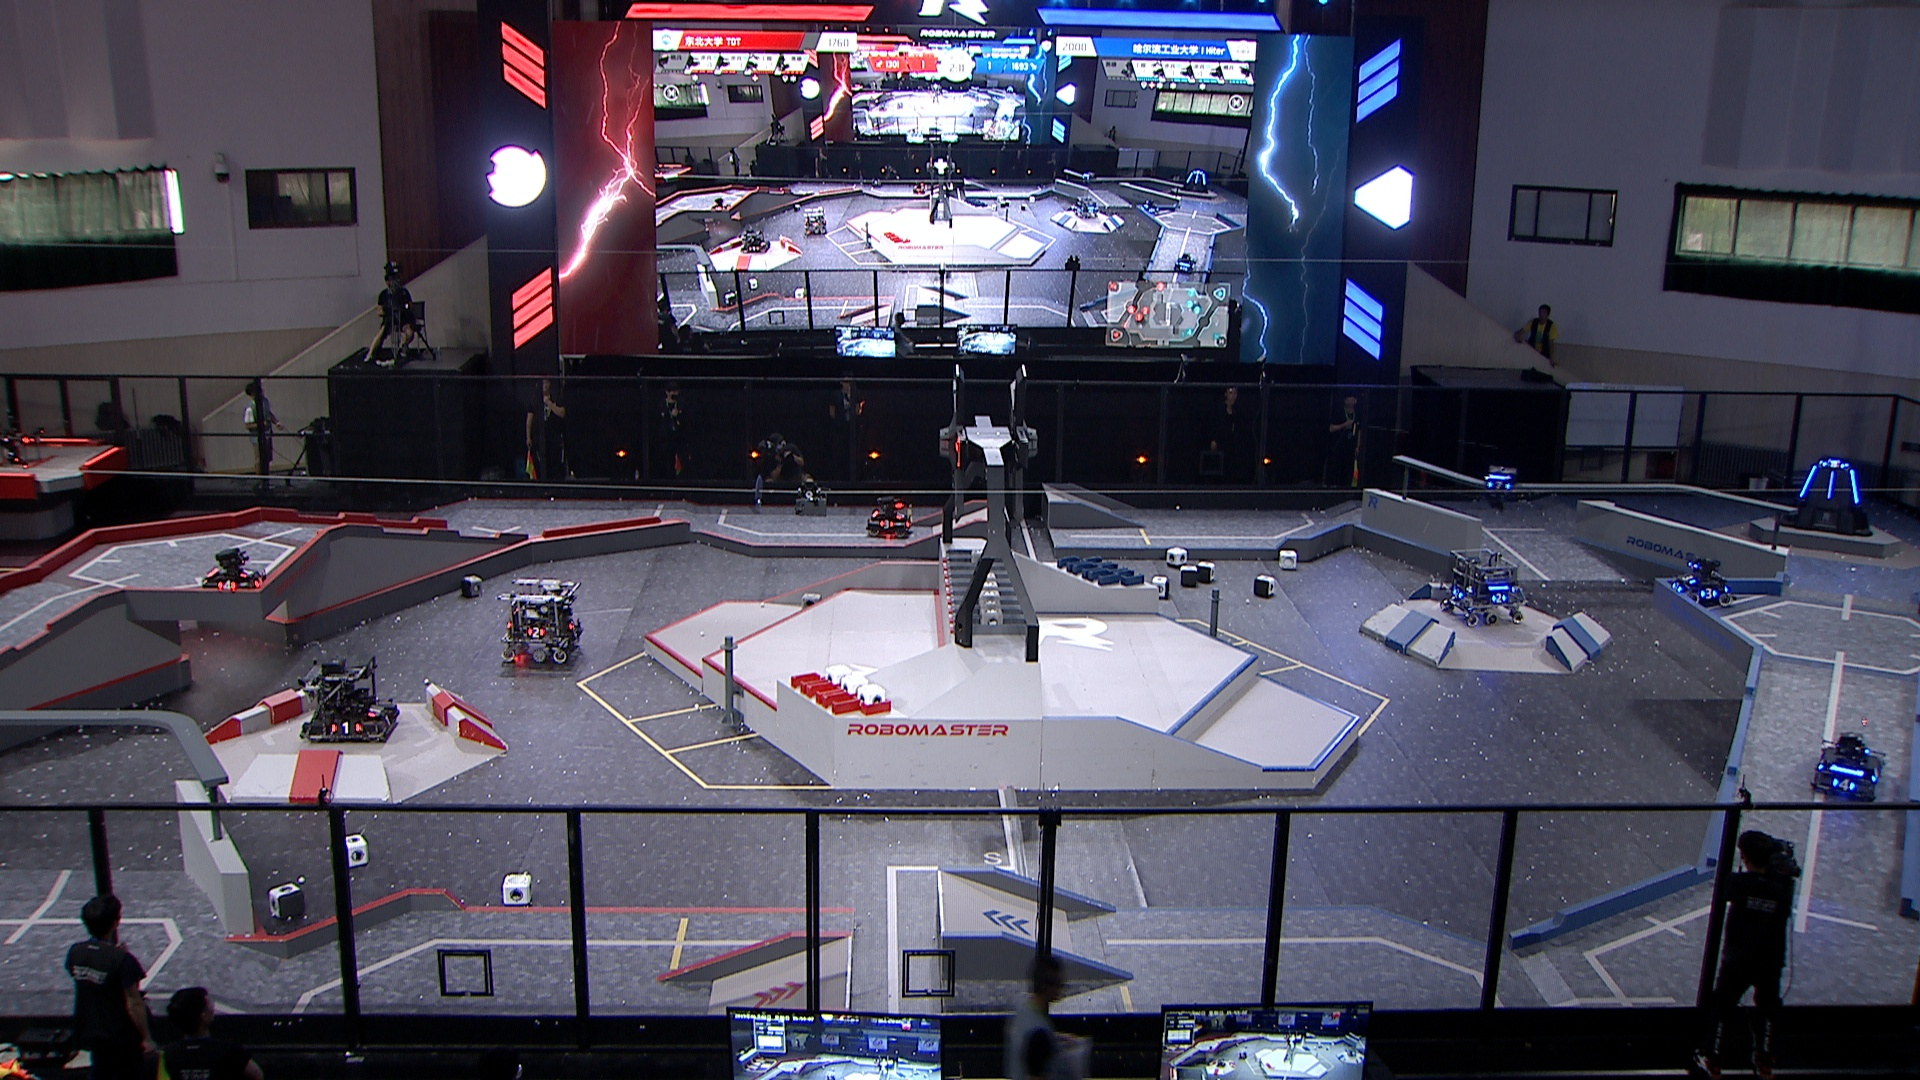armor: (1797, 462, 1818, 500), (327, 717, 363, 736), (1825, 469, 1840, 500), (1832, 774, 1855, 793), (1849, 467, 1859, 506), (363, 702, 385, 719), (215, 578, 239, 593), (249, 568, 266, 589), (1485, 479, 1514, 491), (524, 624, 547, 638), (1680, 570, 1698, 588), (1869, 764, 1882, 789), (1822, 458, 1846, 471), (1698, 585, 1720, 600), (1490, 589, 1509, 605), (1669, 579, 1687, 595), (237, 564, 256, 579), (1448, 585, 1465, 600), (381, 712, 396, 728), (894, 508, 910, 522), (878, 517, 894, 531), (564, 617, 579, 632)
base: (1775, 455, 1876, 541)
car: (297, 655, 401, 746), (498, 578, 585, 666), (1437, 545, 1528, 629), (1812, 727, 1884, 804), (1664, 556, 1735, 611), (196, 545, 272, 595), (864, 495, 918, 541)
ignore: (799, 207, 829, 237), (738, 228, 771, 256), (1182, 167, 1211, 195), (1069, 193, 1098, 218), (1174, 251, 1197, 276), (708, 196, 732, 215), (1145, 196, 1160, 220), (910, 179, 927, 196)
watcher: (1480, 462, 1519, 512)
